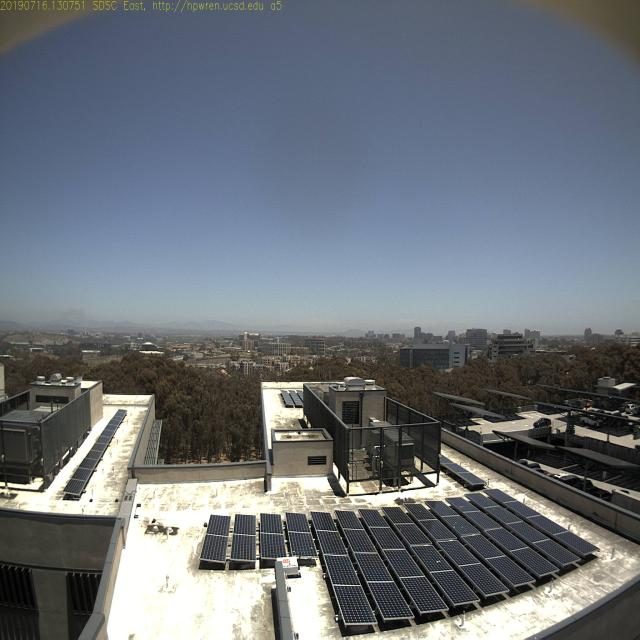smoke: (60, 293, 101, 335)
